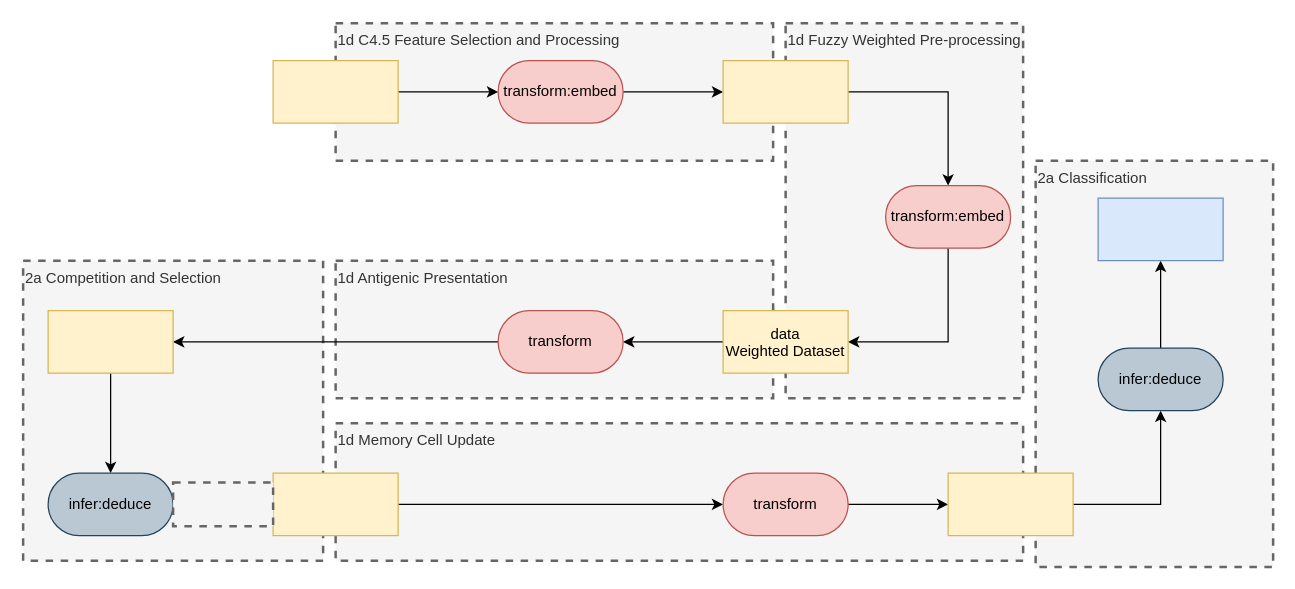
Some shapes in this 1295 by 589 pixel diagram are drawn without their labels. The centre of each missing label's shape, as x and y in pixels:
data ARB Pool: the point at 110,341
data Memory Pool: the point at 1010,504
data Raw Patient Records: the point at 335,91
data Reduced Dataset: the point at 785,91
data Refined ARB Pool: the point at 335,504
error -->: the point at 222,504
symbol Patient Record Classification: the point at 1160,229
